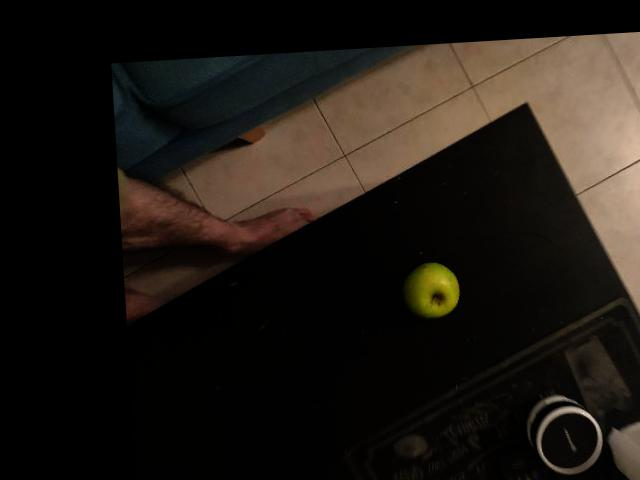apple: (483, 155, 551, 223)
